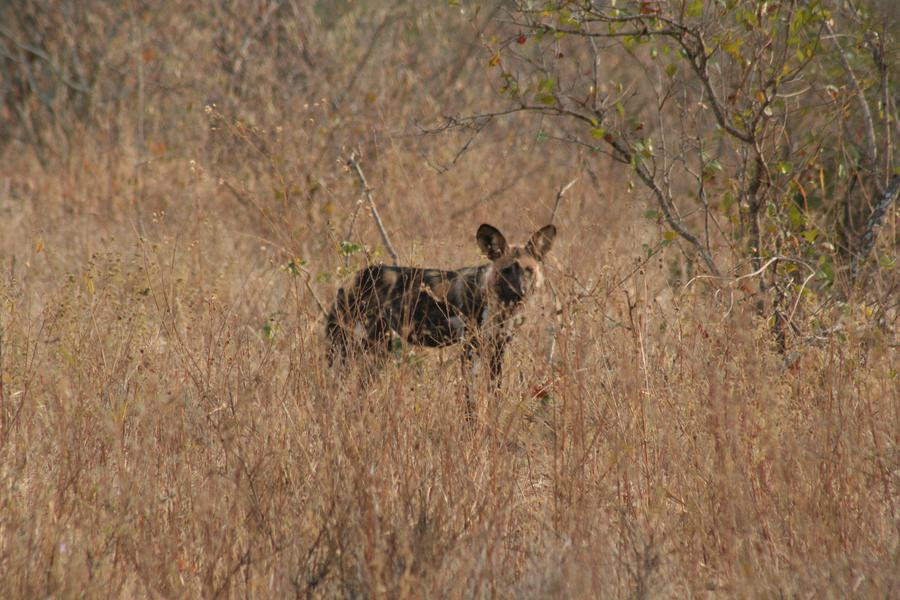wilddog: (327, 248, 545, 341)
